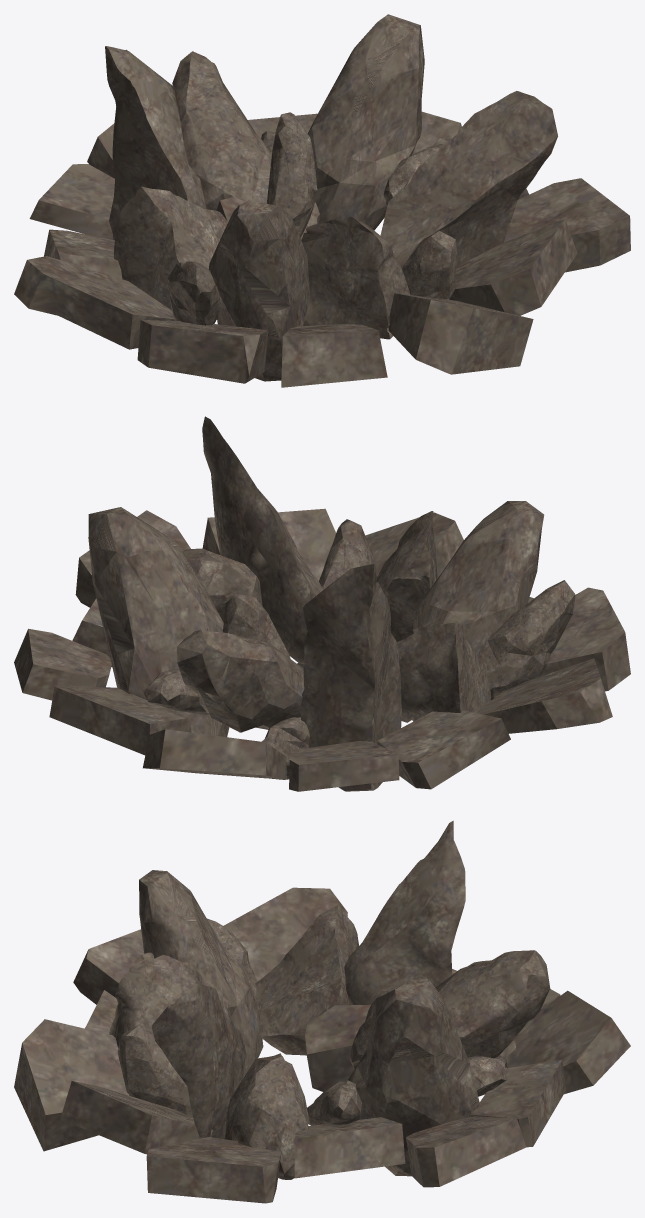
Rendered from Shinobu_Spl_Ground.fbx.
3 views of the same model, one above another, from view 1: azimuth 30°, elevation 25°; view 2: azimuth 150°, elevation 25°; view 3: azimuth 270°, elevation 25° (orthographic). The views are drawn at different scales.
Parts seen in each view (by area): view 1: SM_d_e_P0011_V00_C00_SplTwm_GroundRock_01; view 2: SM_d_e_P0011_V00_C00_SplTwm_GroundRock_01; view 3: SM_d_e_P0011_V00_C00_SplTwm_GroundRock_01.
Boxes of the visible parts, x1,y1,x2,y2 form: SM_d_e_P0011_V00_C00_SplTwm_GroundRock_01: [14, 14, 630, 387]; SM_d_e_P0011_V00_C00_SplTwm_GroundRock_01: [14, 416, 630, 791]; SM_d_e_P0011_V00_C00_SplTwm_GroundRock_01: [14, 820, 630, 1203].
Bounding box in the file's own units: 114 × 50.9 × 112.
